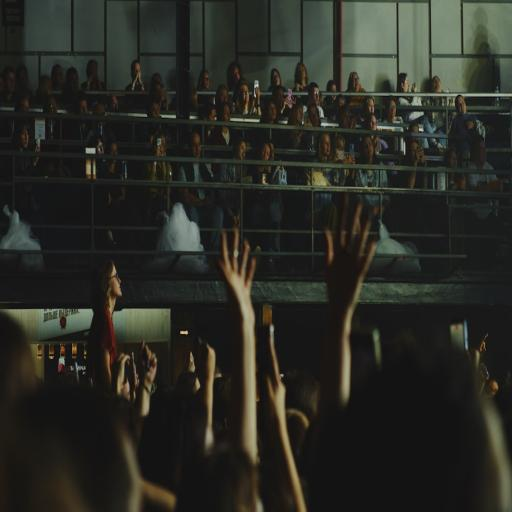face: (110, 265, 121, 299), (473, 142, 486, 166), (189, 133, 201, 158), (362, 136, 374, 161), (18, 126, 29, 150), (444, 150, 457, 169), (319, 134, 330, 156), (18, 68, 28, 90), (308, 106, 319, 126), (53, 66, 63, 88), (275, 88, 284, 111), (5, 72, 15, 92), (340, 109, 350, 128), (239, 85, 249, 104), (456, 96, 466, 114), (236, 141, 246, 159), (387, 100, 395, 121), (310, 87, 319, 105), (260, 144, 270, 160), (410, 140, 418, 160), (271, 70, 281, 86), (268, 102, 276, 121), (431, 77, 441, 92), (202, 72, 210, 90), (232, 66, 240, 84), (221, 105, 230, 121), (351, 73, 359, 91), (219, 88, 228, 103), (78, 100, 87, 115), (295, 109, 303, 125), (366, 99, 374, 114), (369, 115, 377, 130), (110, 95, 118, 110), (298, 65, 306, 79), (402, 76, 409, 92), (96, 140, 104, 154), (109, 143, 118, 155), (329, 83, 337, 92)
